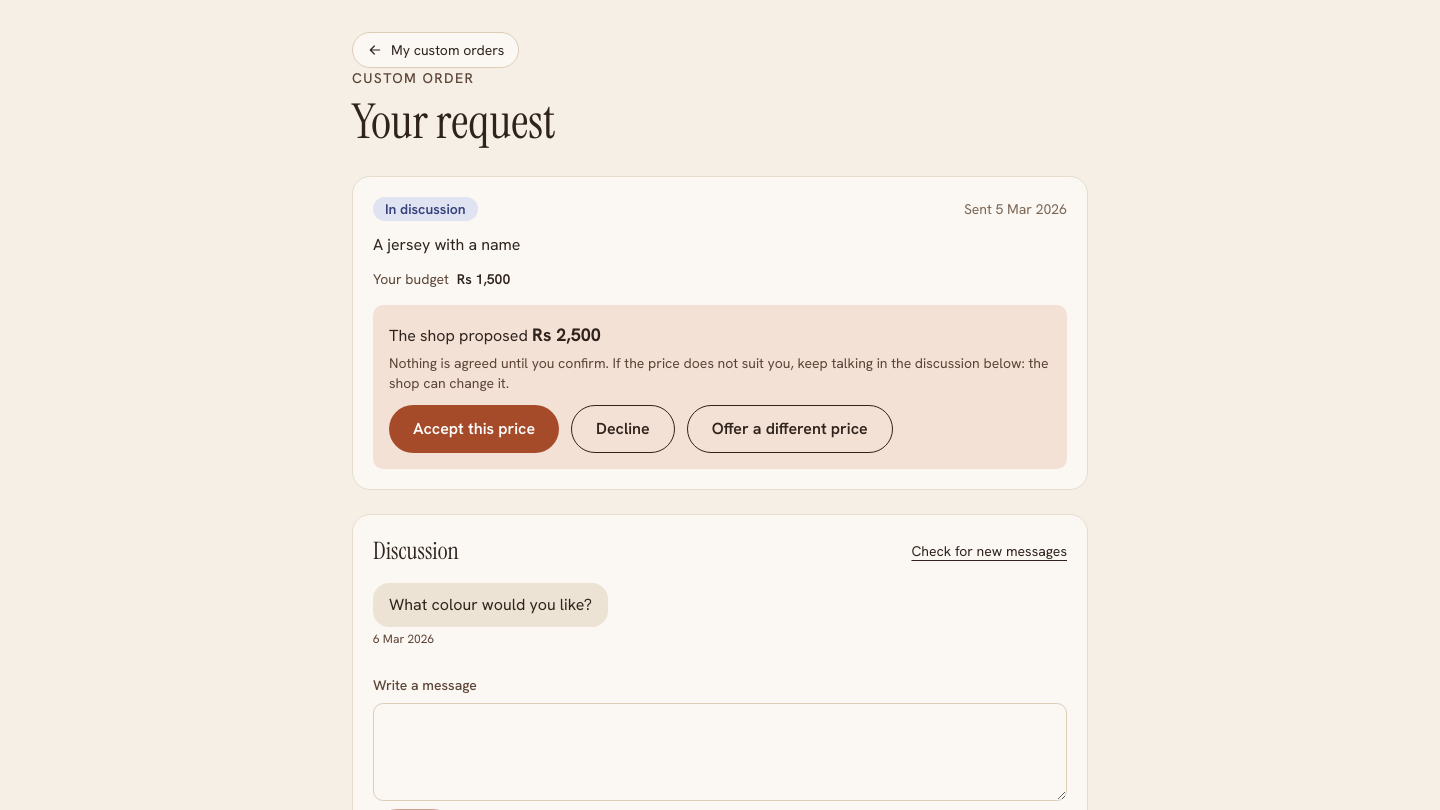
does nothing when the customer says "Not yet" in the pop-up
The image size is (1440, 810).
Step 1. Click the button "Accept this price" → (474, 429), box x1=389 y1=405 x2=559 y2=453
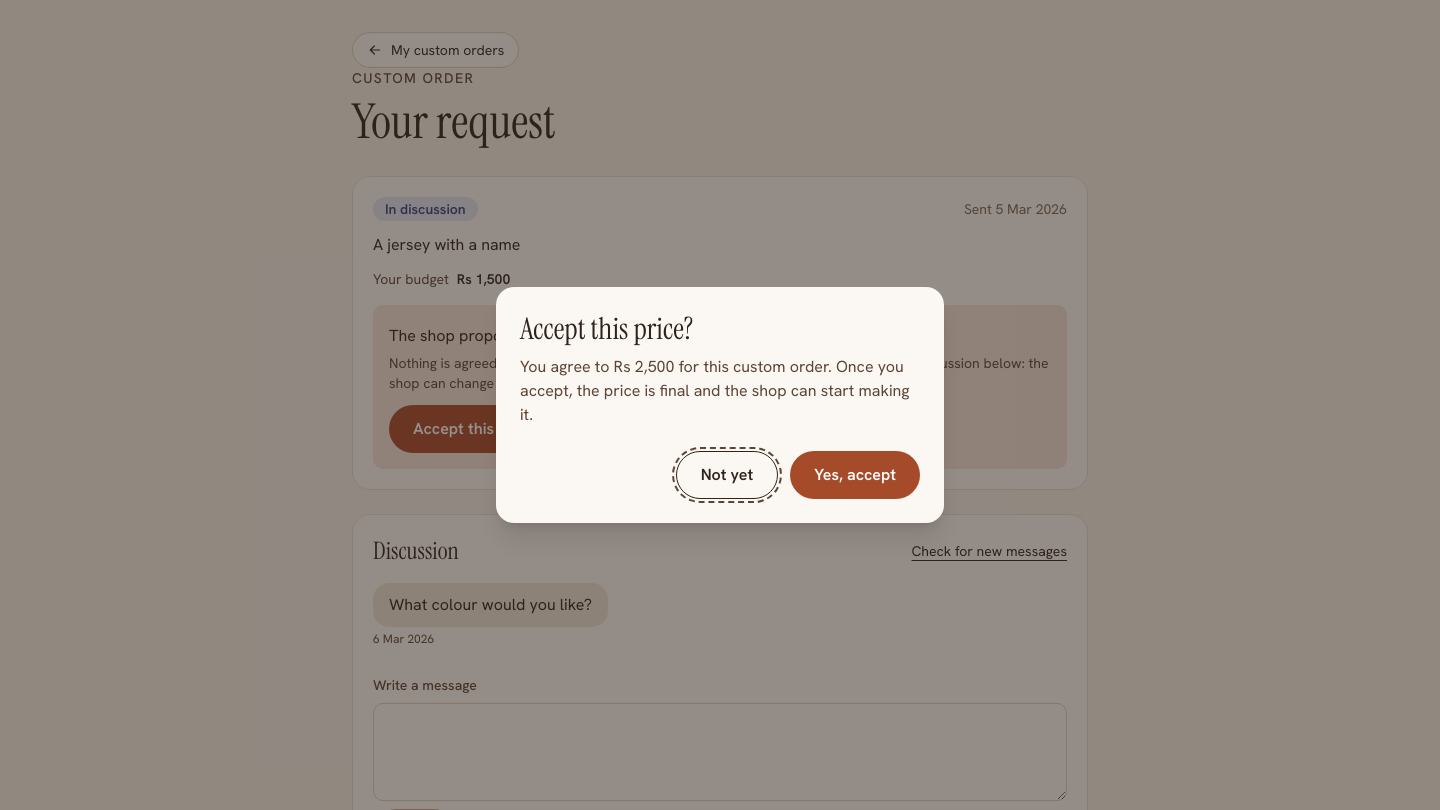
Step 2. Click the button "Not yet" → (727, 475), box x1=676 y1=451 x2=778 y2=499
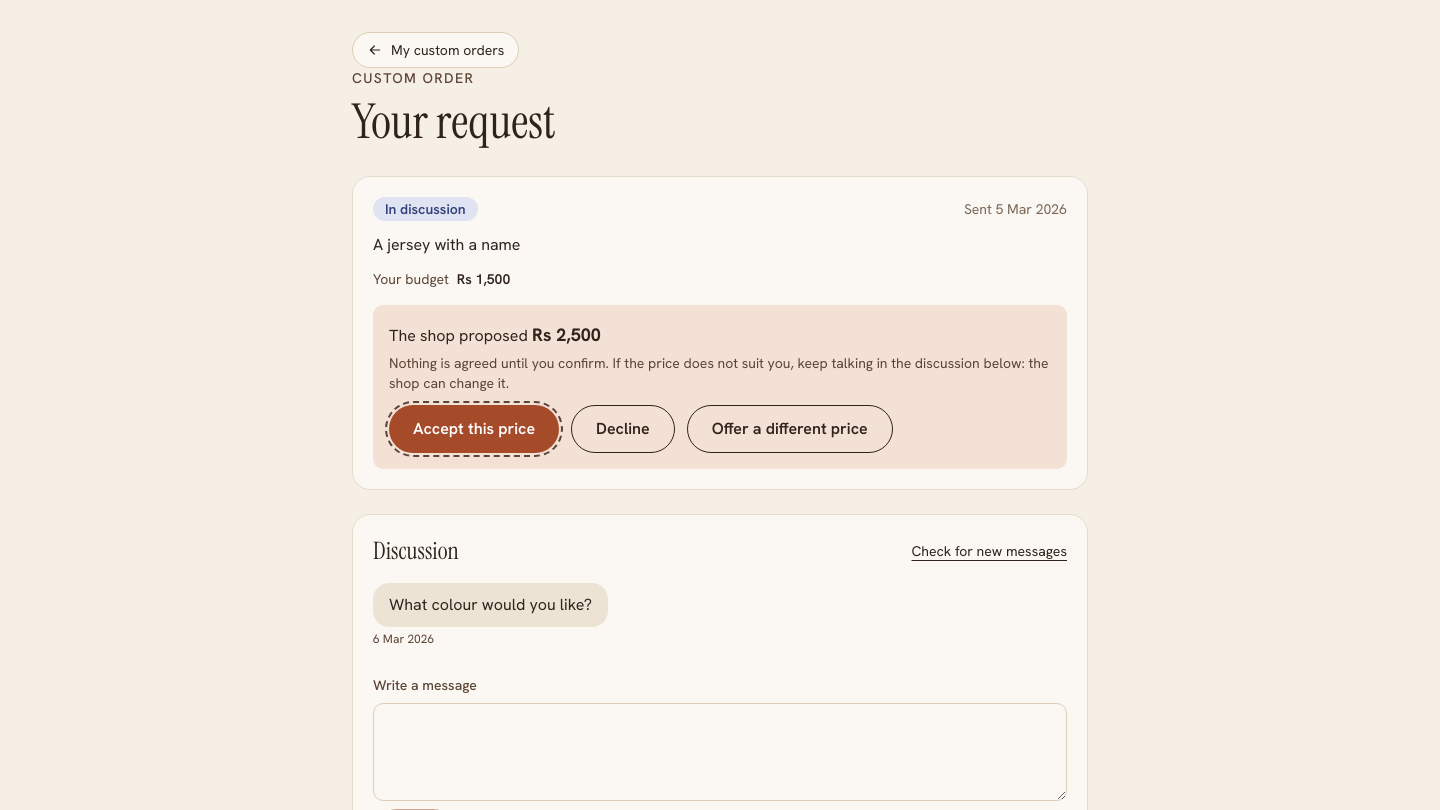
Expected: the dialog is gone
